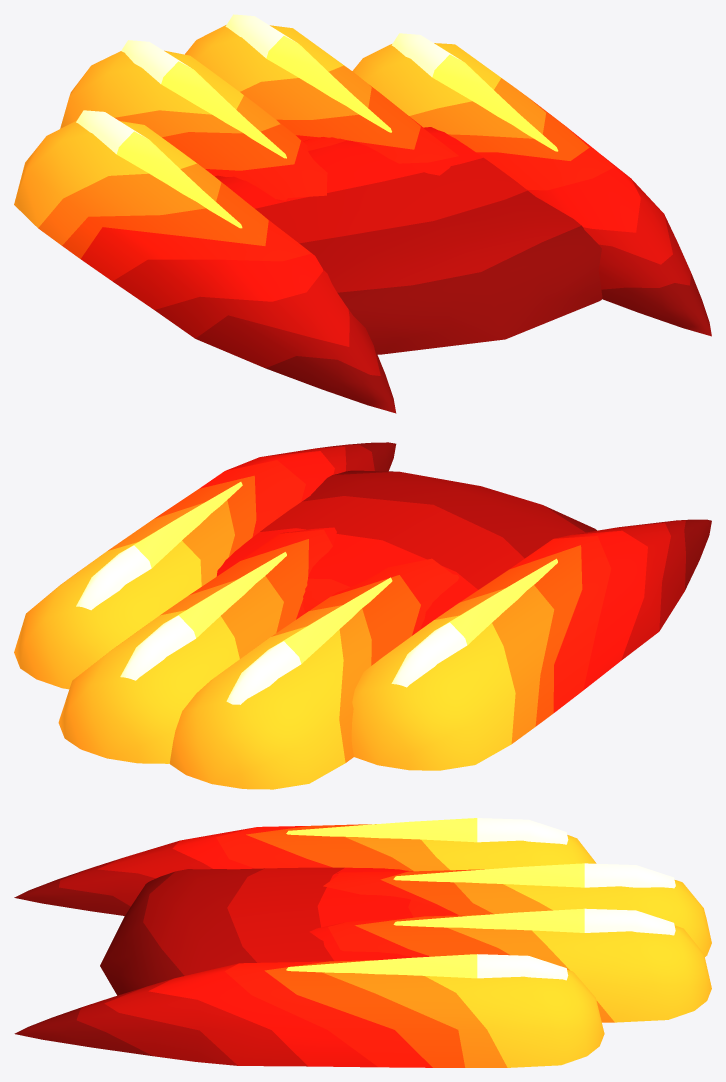
Rendered from shot_charge_219.glb.
3 renders of one model, top to bottom at view 1: azimuth 30°, elevation 25°; view 2: azimuth 150°, elevation 25°; view 3: azimuth 270°, elevation 25°, orthographic. The views are drawn at different scales.
Parts seen in each view (by area): view 1: shot_charge_219_web, shot_charge_219_bolt0, shot_charge_219_bolt3, shot_charge_219_bolt1, shot_charge_219_bolt2, shot_charge_219_core3, shot_charge_219_core1, shot_charge_219_core2, shot_charge_219_core0; view 2: shot_charge_219_bolt0, shot_charge_219_bolt1, shot_charge_219_web, shot_charge_219_bolt3, shot_charge_219_bolt2, shot_charge_219_core3, shot_charge_219_core2, shot_charge_219_core0, shot_charge_219_core1; view 3: shot_charge_219_bolt3, shot_charge_219_web, shot_charge_219_bolt0, shot_charge_219_bolt2, shot_charge_219_bolt1, shot_charge_219_core1, shot_charge_219_core0, shot_charge_219_core2, shot_charge_219_core3.
Part boxes in pixels (bbox=[...]): shot_charge_219_web: bbox=[215, 127, 602, 354]; shot_charge_219_bolt0: bbox=[14, 121, 396, 413]; shot_charge_219_bolt3: bbox=[352, 43, 711, 336]; shot_charge_219_bolt1: bbox=[60, 50, 327, 201]; shot_charge_219_bolt2: bbox=[185, 25, 460, 175]; shot_charge_219_core3: bbox=[391, 33, 558, 151]; shot_charge_219_core1: bbox=[121, 40, 286, 158]; shot_charge_219_core2: bbox=[225, 14, 391, 132]; shot_charge_219_core0: bbox=[76, 110, 242, 228]; shot_charge_219_bolt0: bbox=[351, 519, 711, 770]; shot_charge_219_bolt1: bbox=[169, 558, 460, 789]; shot_charge_219_web: bbox=[216, 470, 596, 628]; shot_charge_219_bolt3: bbox=[14, 442, 396, 689]; shot_charge_219_bolt2: bbox=[58, 527, 336, 763]; shot_charge_219_core3: bbox=[76, 482, 242, 610]; shot_charge_219_core2: bbox=[120, 552, 286, 680]; shot_charge_219_core0: bbox=[391, 558, 557, 687]; shot_charge_219_core1: bbox=[226, 577, 392, 704]; shot_charge_219_bolt3: bbox=[14, 960, 604, 1067]; shot_charge_219_web: bbox=[100, 867, 448, 995]; shot_charge_219_bolt0: bbox=[14, 824, 596, 915]; shot_charge_219_bolt2: bbox=[309, 915, 711, 1022]; shot_charge_219_bolt1: bbox=[323, 869, 711, 956]; shot_charge_219_core1: bbox=[393, 863, 675, 888]; shot_charge_219_core0: bbox=[286, 818, 568, 844]; shot_charge_219_core2: bbox=[393, 908, 675, 935]; shot_charge_219_core3: bbox=[286, 954, 568, 980].
Size of the model in its own units: 9 by 1.64 by 13.
